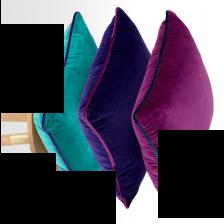purple: (131, 11, 213, 215)
